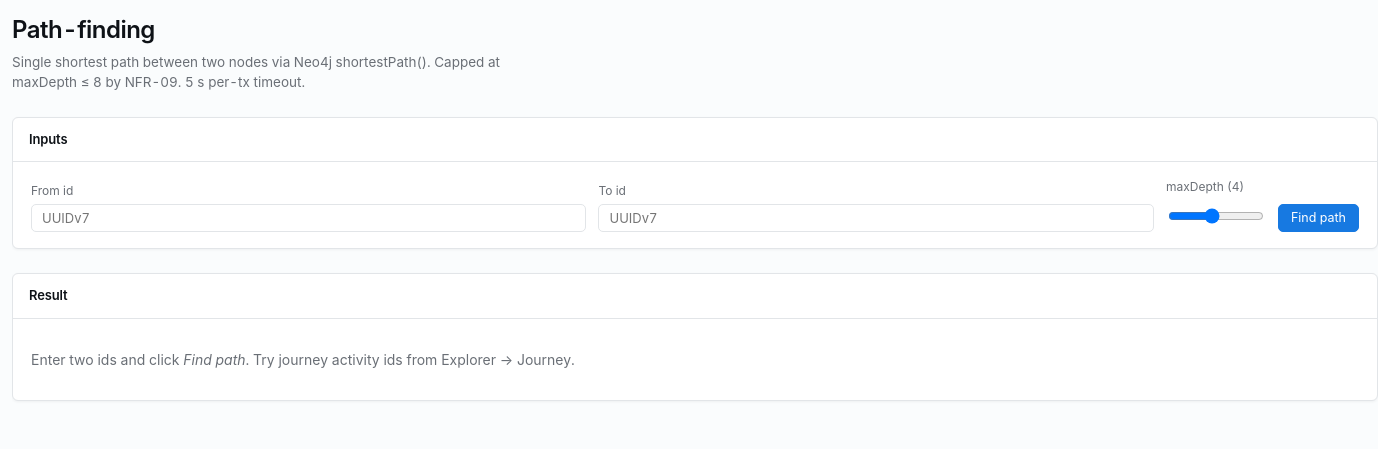
ExplorerPath (FR-10 / AC-07) › (a) success — one row + 2 hydrations → hops render with edge labels
Step 1. Type "node-a" into the field with test id "path-from" → [309, 218], box x1=31 y1=204 x2=586 y2=232
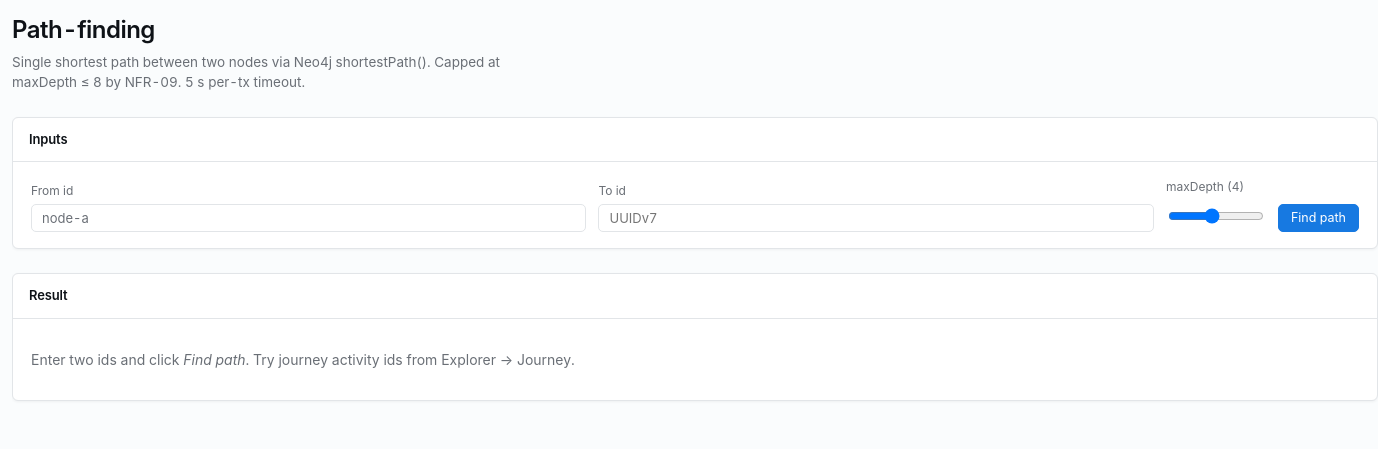
Step 2. Type "node-b" into the field with test id "path-to" → [876, 218], box x1=598 y1=204 x2=1154 y2=232
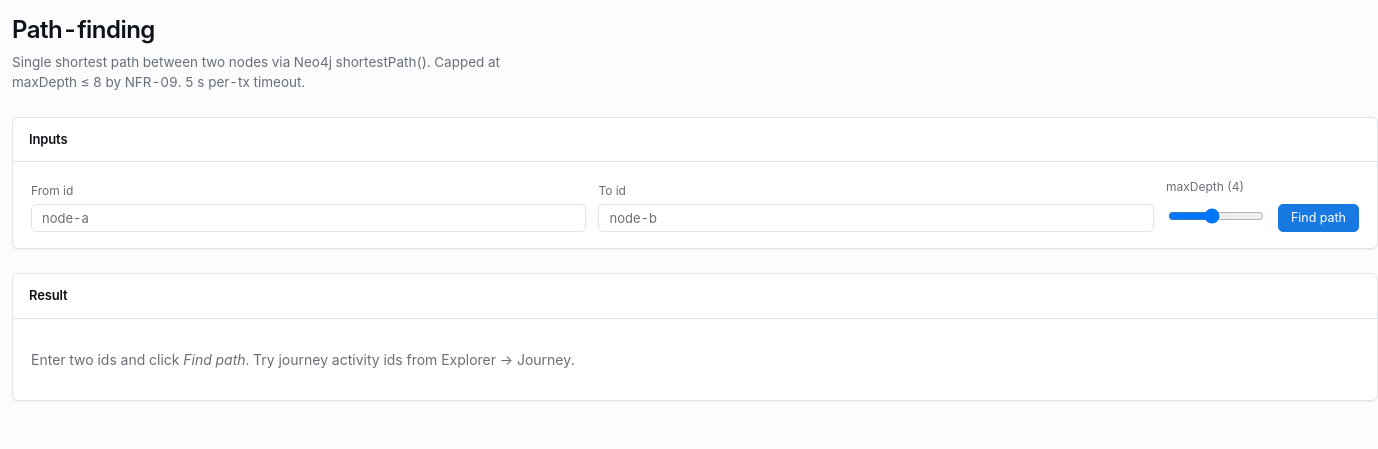
Step 3. Click the button "Find path" → [1318, 218], box x1=1278 y1=204 x2=1359 y2=232
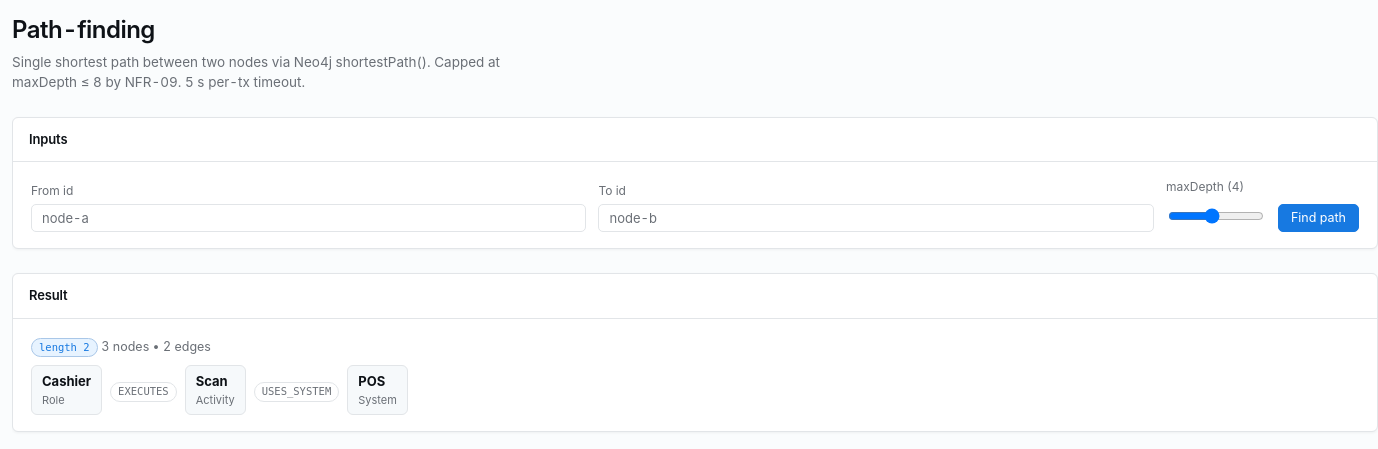
Result: the element with test id "path-hops" is shown at x1=31 y1=338 x2=408 y2=415
Result: the number of elements with test id "path-hop-node" is 3 at x1=31 y1=365 x2=102 y2=415; x1=185 y1=365 x2=246 y2=415; x1=347 y1=365 x2=408 y2=415
Result: the element with test id "path-hop-node" shows "Cashier" at x1=42 y1=373 x2=91 y2=389
